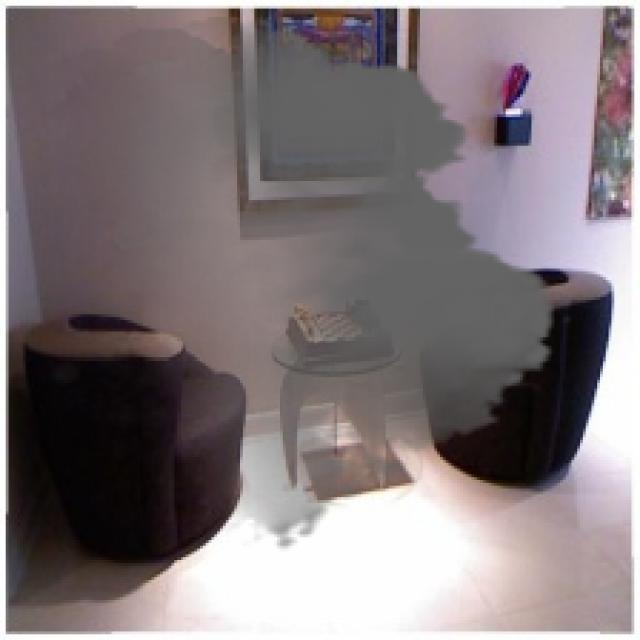smoke: (26, 17, 574, 552)
